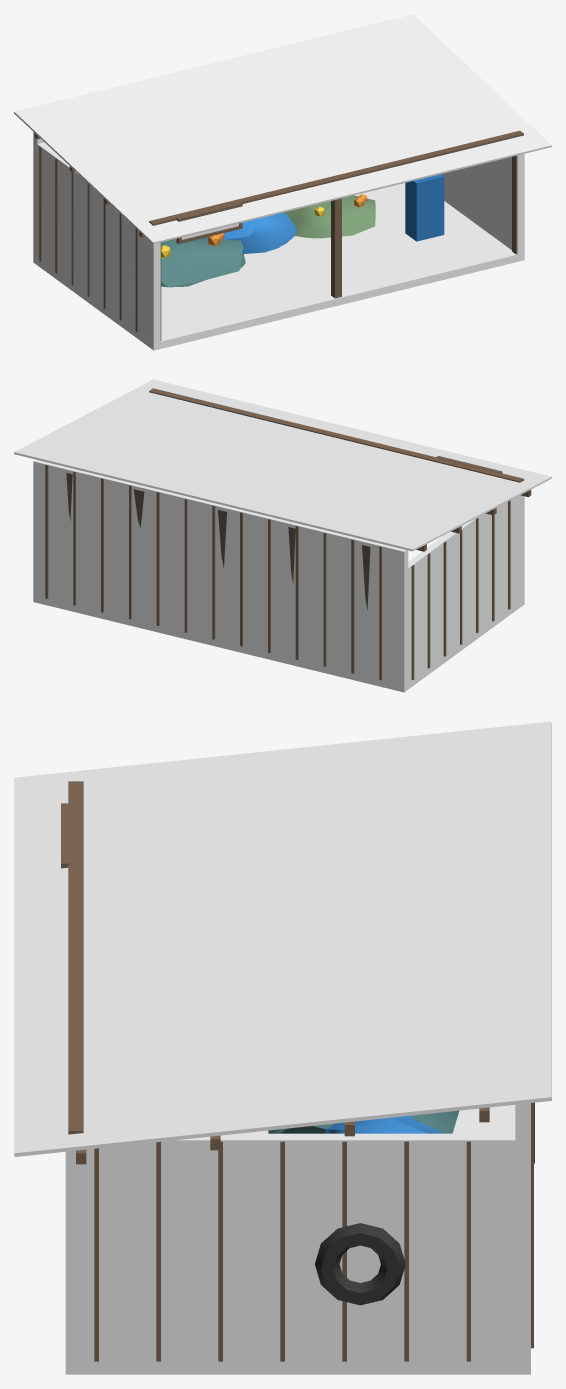
The model's file is gear_shed.glb.
The picture shows the model from 3 angles, top to bottom: view 1: azimuth 30°, elevation 25°; view 2: azimuth 150°, elevation 25°; view 3: azimuth 270°, elevation 25°; orthographic projection. The views are drawn at different scales.
Parts seen in each view (by area): view 1: gear_shed_body; view 2: gear_shed_body; view 3: gear_shed_body.
Boxes of the visible parts, left/top/right/bottom form: gear_shed_body: left=14, top=14, right=551, bottom=350; gear_shed_body: left=14, top=379, right=551, bottom=692; gear_shed_body: left=14, top=721, right=551, bottom=1374.
Size of what is drawn, in the model's own units: 8.6 by 3.1 by 5.2.
